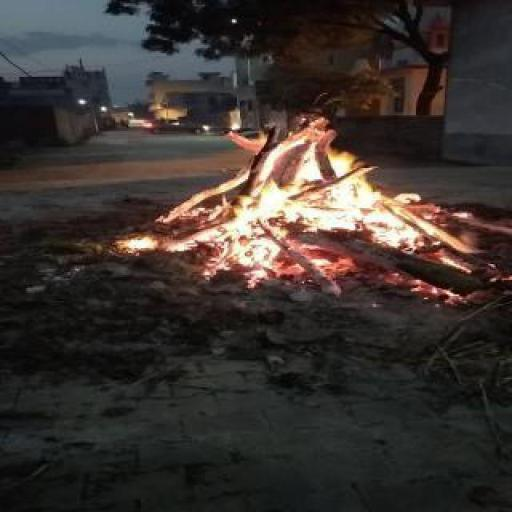smoke: (154, 82, 426, 288)
